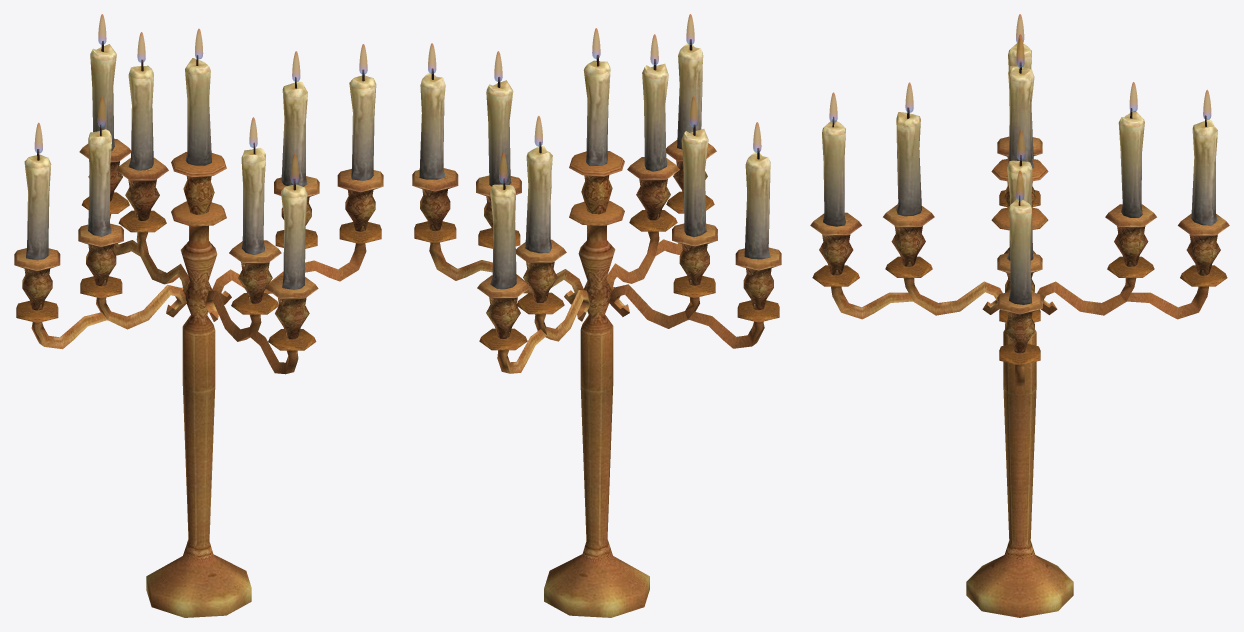
The model's file is Candlestick02A.fbx.
The picture shows the model from 3 angles, left to right: view 1: azimuth 30°, elevation 25°; view 2: azimuth 150°, elevation 25°; view 3: azimuth 270°, elevation 25°; orthographic projection.
Parts seen in each view (by area): view 1: Candlestick02A; view 2: Candlestick02A; view 3: Candlestick02A.
Part boxes in pixels (x1=…): Candlestick02A: x1=14, y1=41, x2=383, y2=617; Candlestick02A: x1=412, y1=39, x2=781, y2=617; Candlestick02A: x1=810, y1=43, x2=1229, y2=617.
Size of the model in its own units: 18.78 by 27.56 by 18.78.
2 materials, 2 textured.
